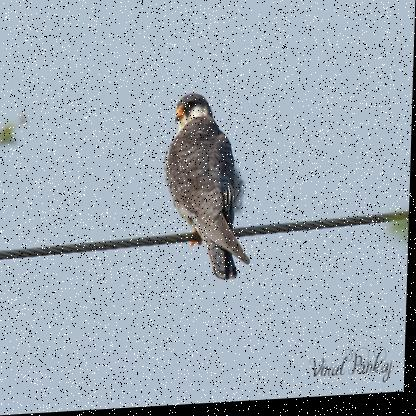Burung: (160, 93, 259, 287)
